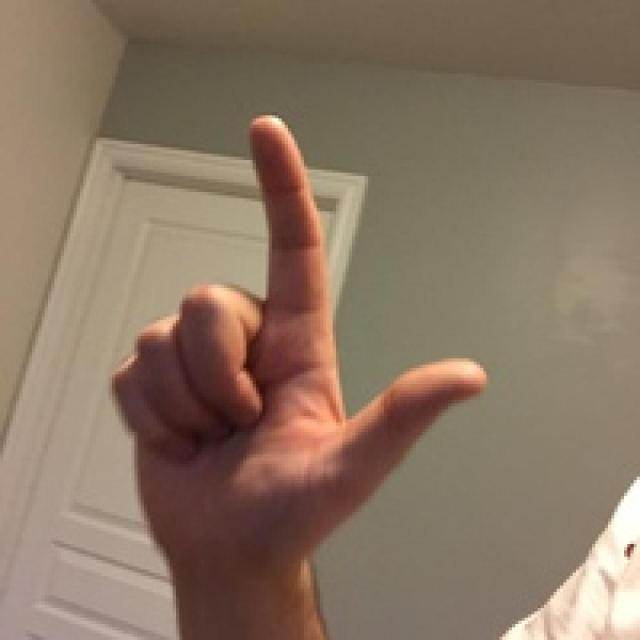L: (84, 59, 562, 576)
